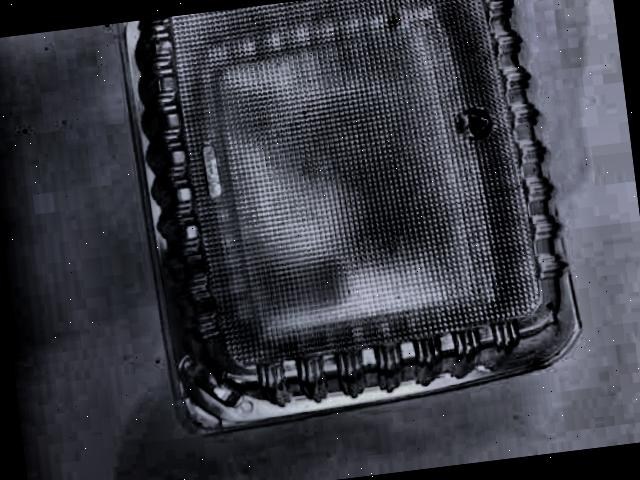Plastic: (109, 0, 599, 436)
